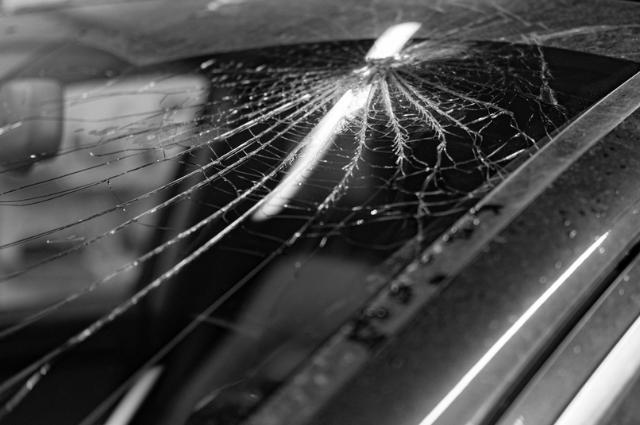Windshield: (0, 0, 499, 406)
